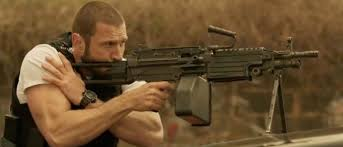gun: (56, 26, 322, 125)
